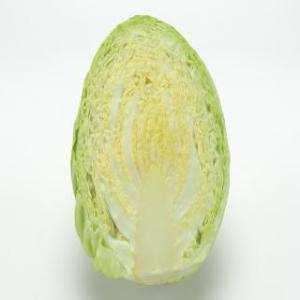cabbage: (71, 14, 231, 290)
